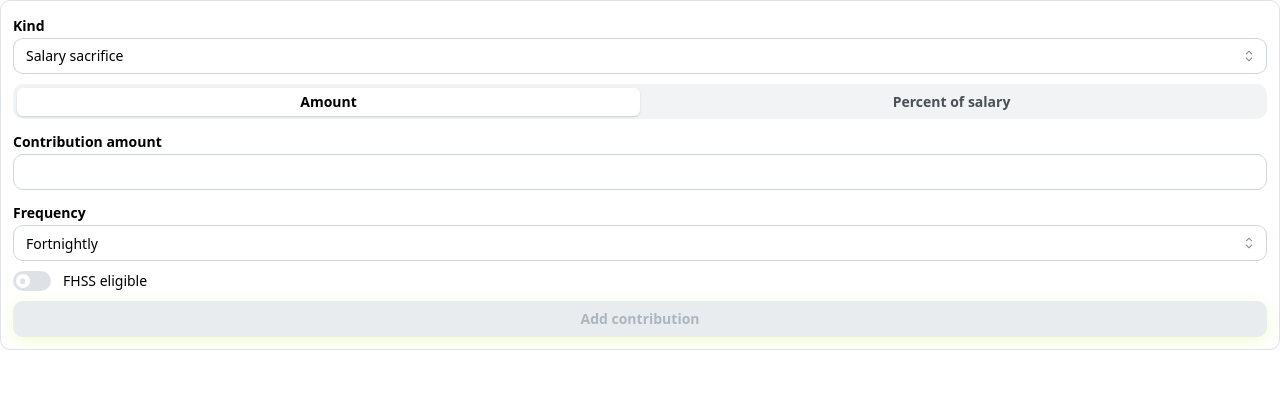
Test: SuperContributionForm › shows an error when saving fails
Type "500" into the field labelled "Contribution amount" at [640, 172], box x1=13 y1=154 x2=1267 y2=190
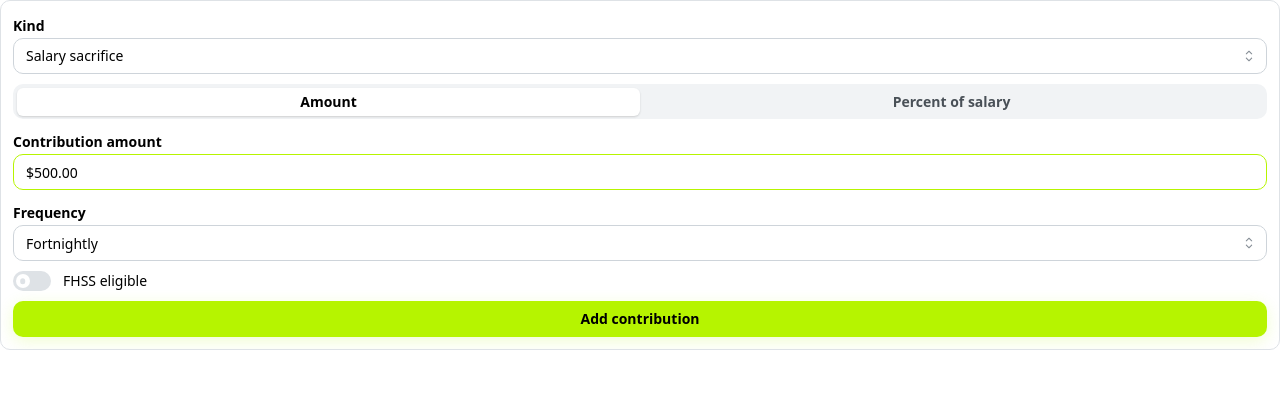
Click the button "Add contribution" at [640, 319], box x1=13 y1=301 x2=1267 y2=337
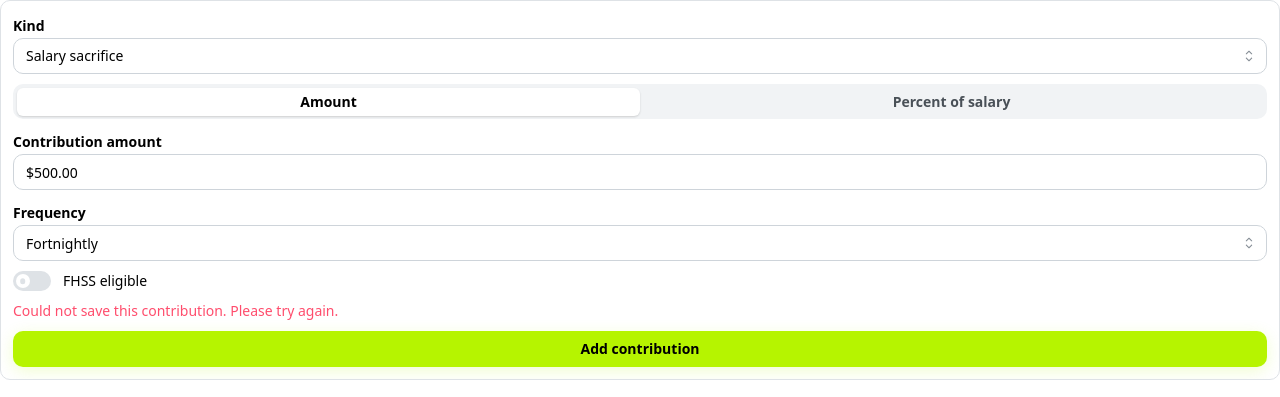
Expected: the message "Could not save this contribution. Please try again." is shown, x1=13 y1=301 x2=338 y2=320
